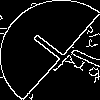T: (25, 25, 84, 78)
